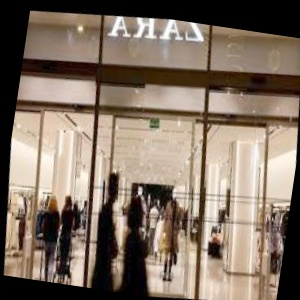zara: (176, 20, 250, 34)
